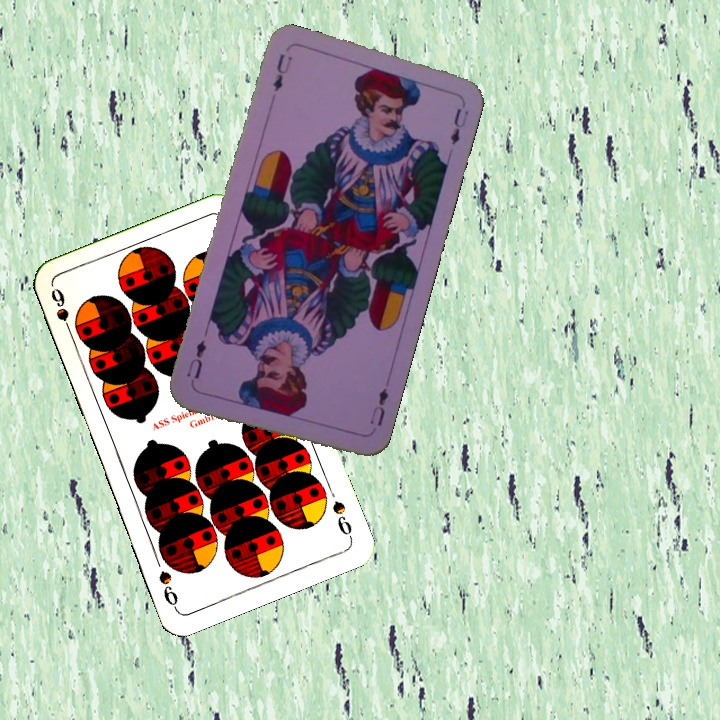EU: (365, 383, 391, 429), (269, 49, 295, 94)
S9: (47, 284, 77, 341), (328, 497, 355, 542)
